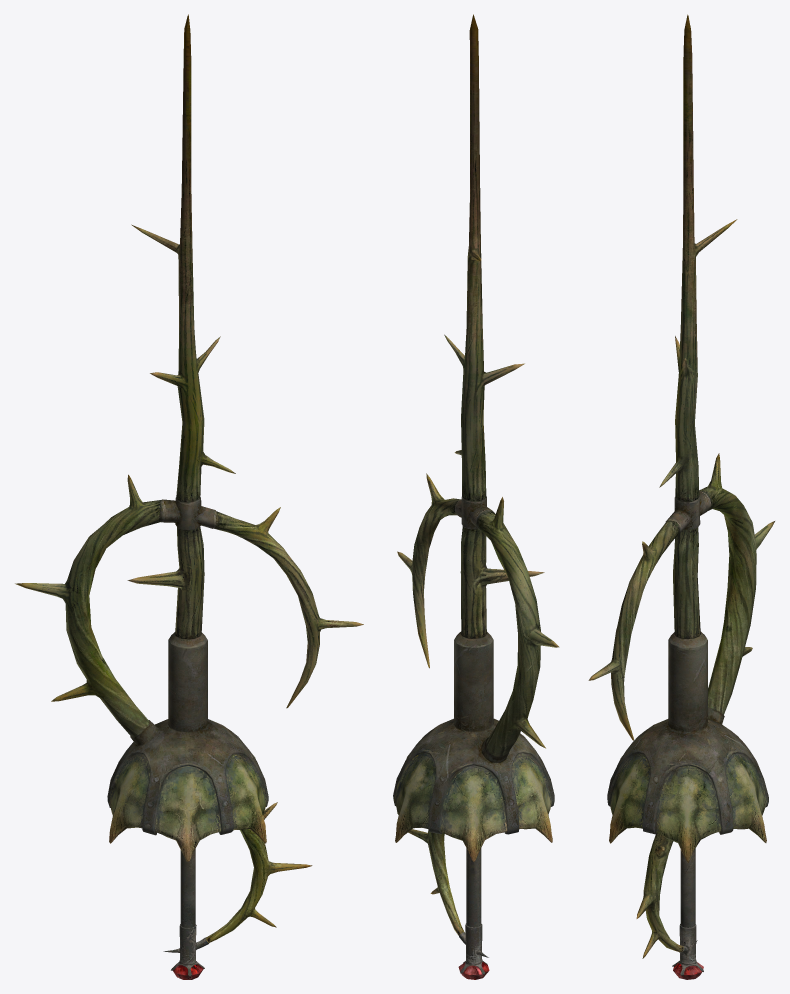
The model's file is one003.obj.
3 views of the same model, side by side, from view 1: azimuth 30°, elevation 25°; view 2: azimuth 150°, elevation 25°; view 3: azimuth 270°, elevation 25° (orthographic).
Parts seen in each view (by area): view 1: one003_000_LOD_1; view 2: one003_000_LOD_1; view 3: one003_000_LOD_1.
Part boxes in pixels (x1,y1,x2,y2): one003_000_LOD_1: [15, 14, 363, 979]; one003_000_LOD_1: [393, 14, 559, 979]; one003_000_LOD_1: [588, 14, 774, 979].
Bounding box in the file's own units: 46.42 × 166 × 29.33.
